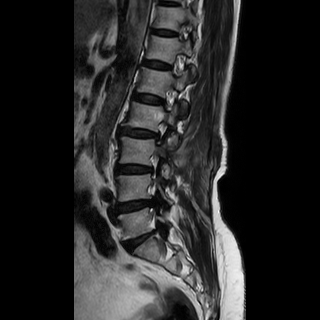LFS0: (153, 84, 181, 115), (148, 115, 171, 150)
